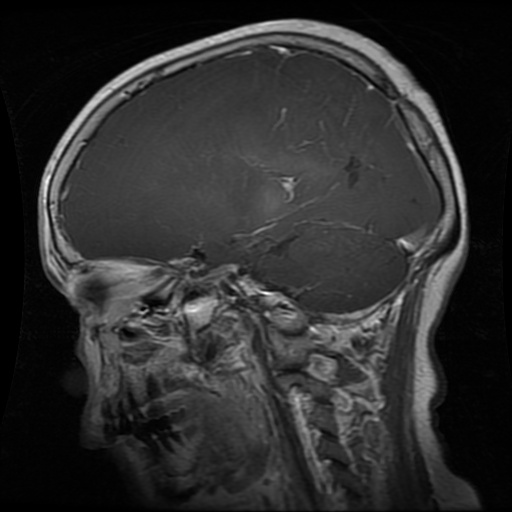glioma: (343, 150, 363, 186)
